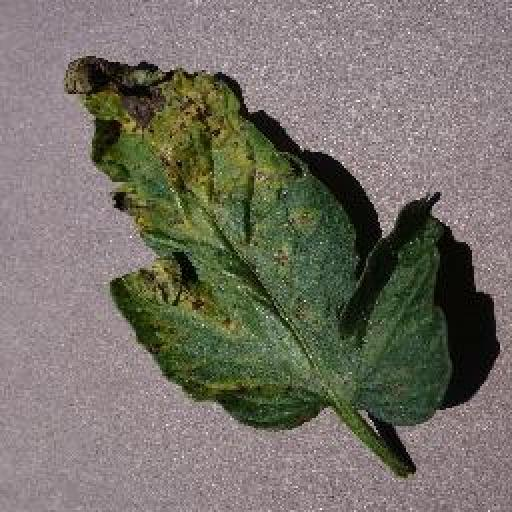Septoria: (59, 46, 457, 430)
